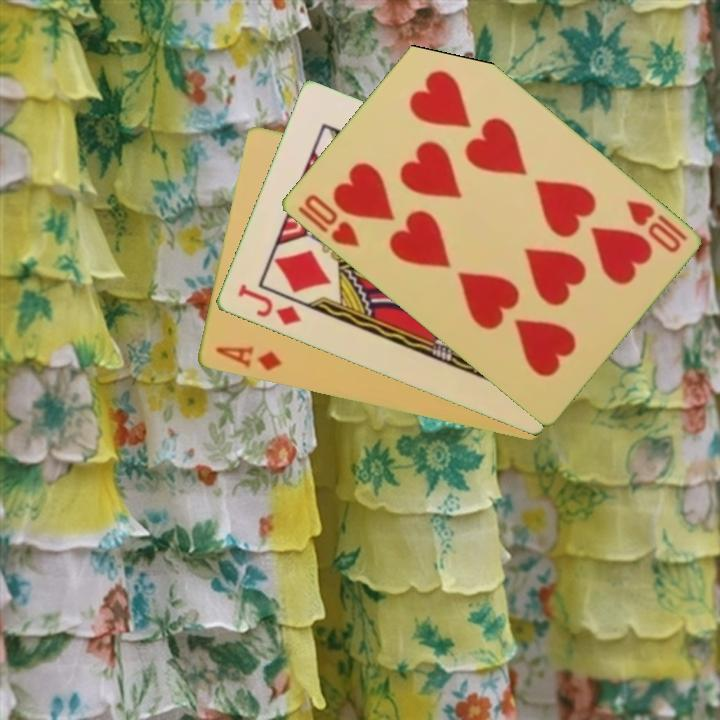10h: (293, 190, 363, 250), (621, 196, 690, 256)
Ad: (211, 342, 284, 374)
Jd: (233, 280, 304, 329)
